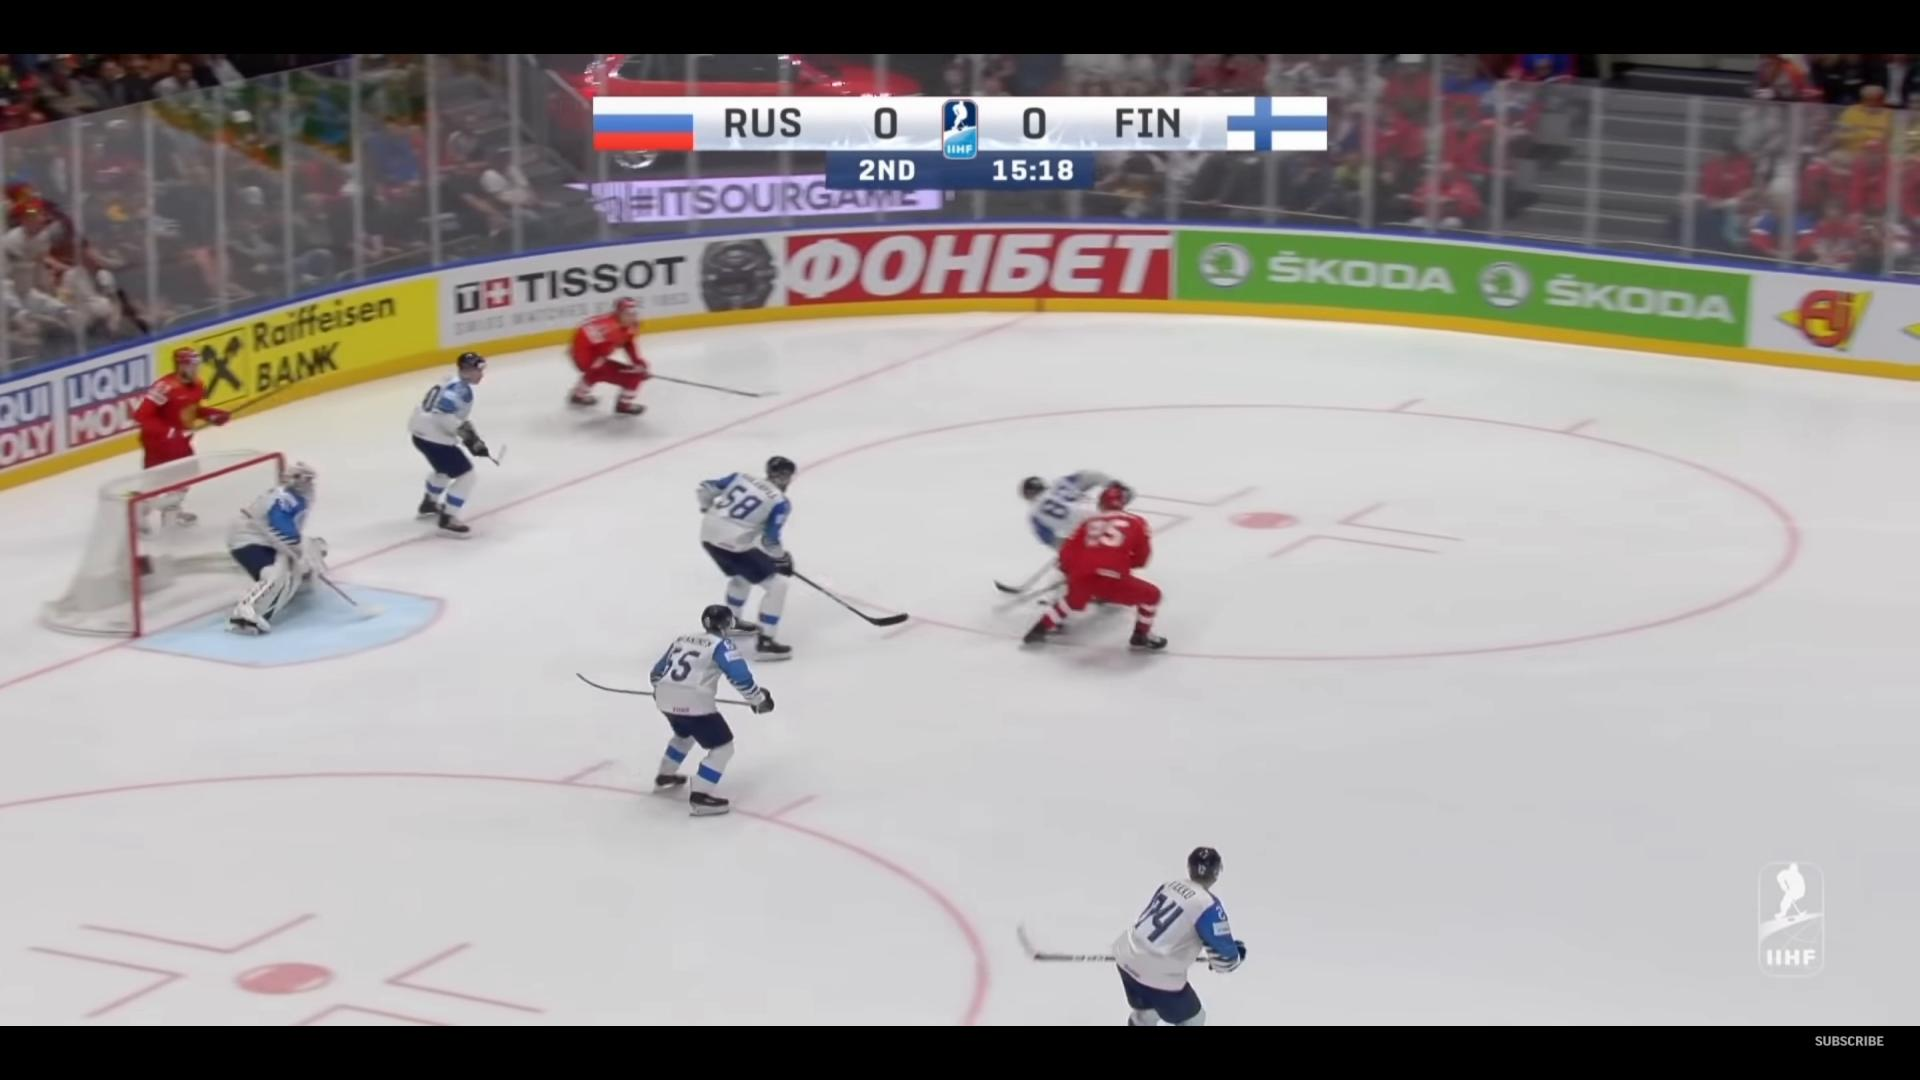puck: (1038, 600, 1047, 604)
